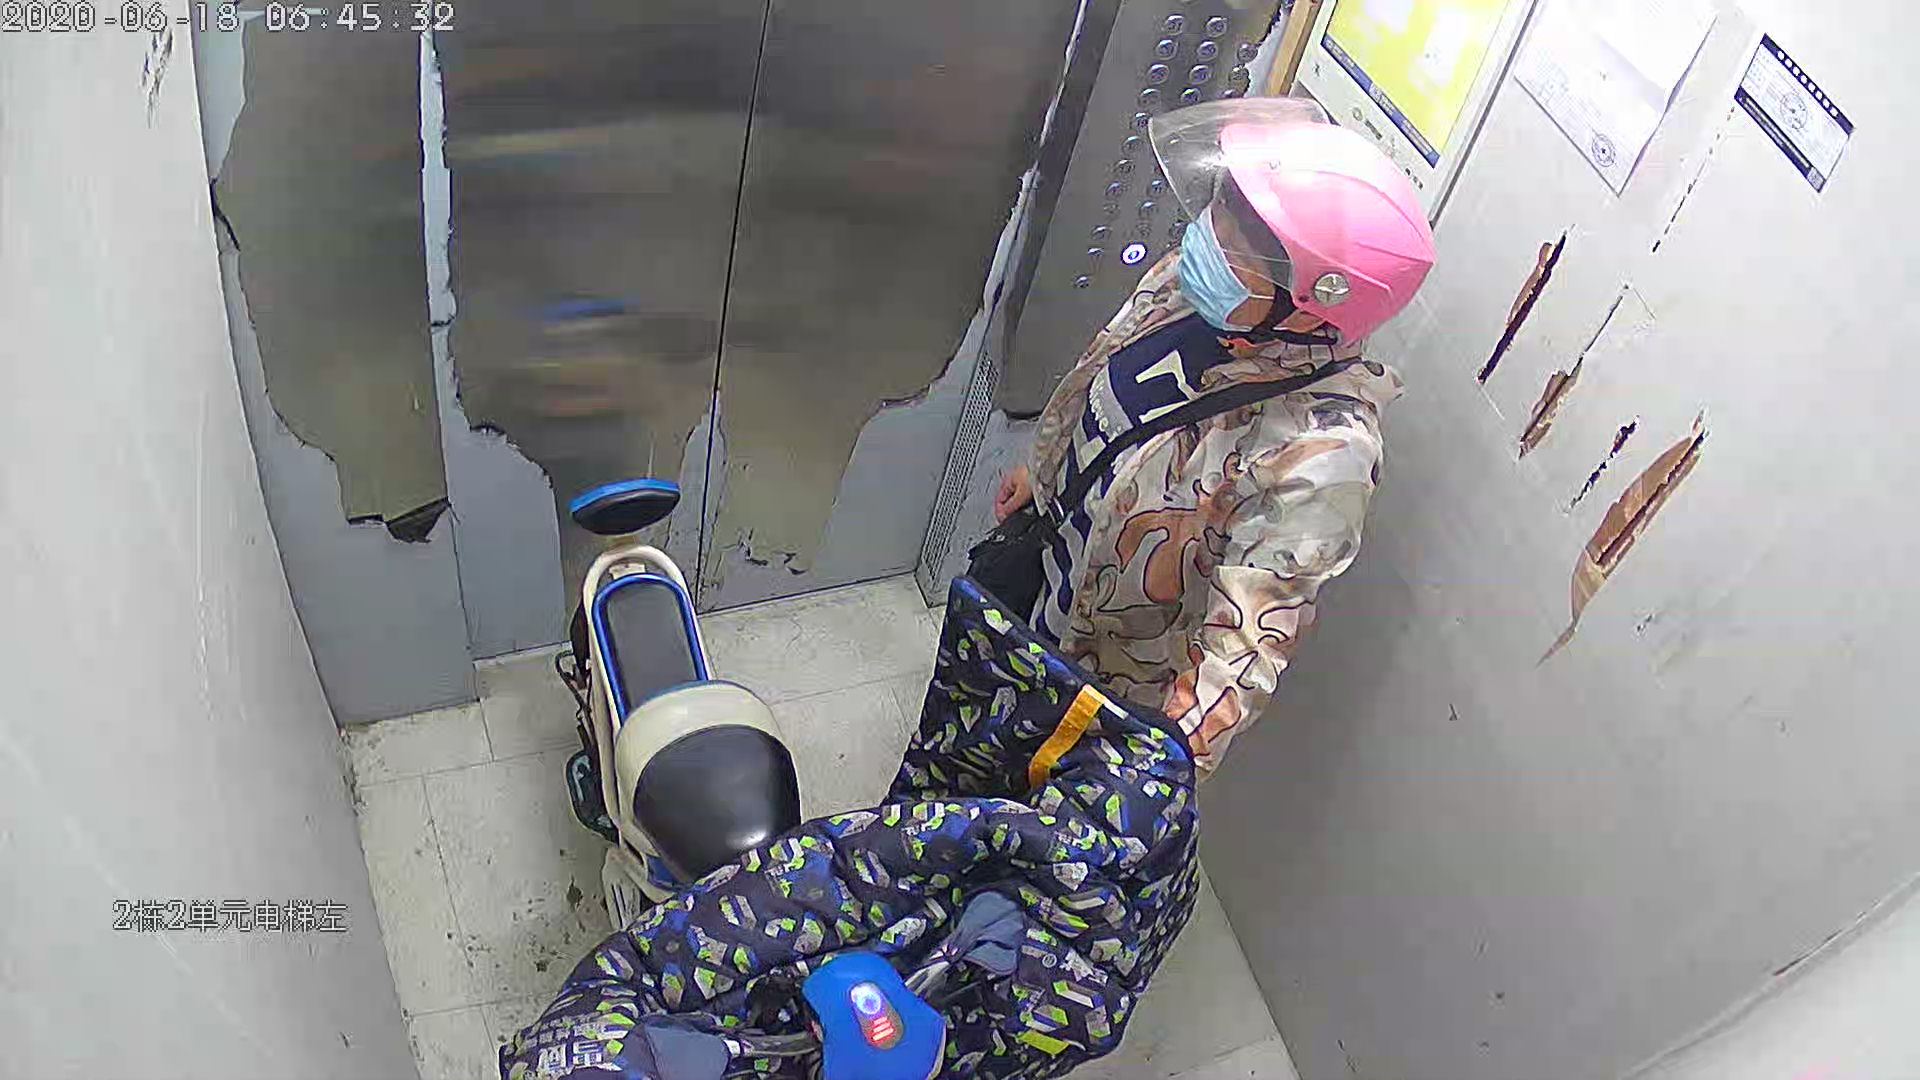Electric-bicycle: (542, 473, 1182, 1080)
